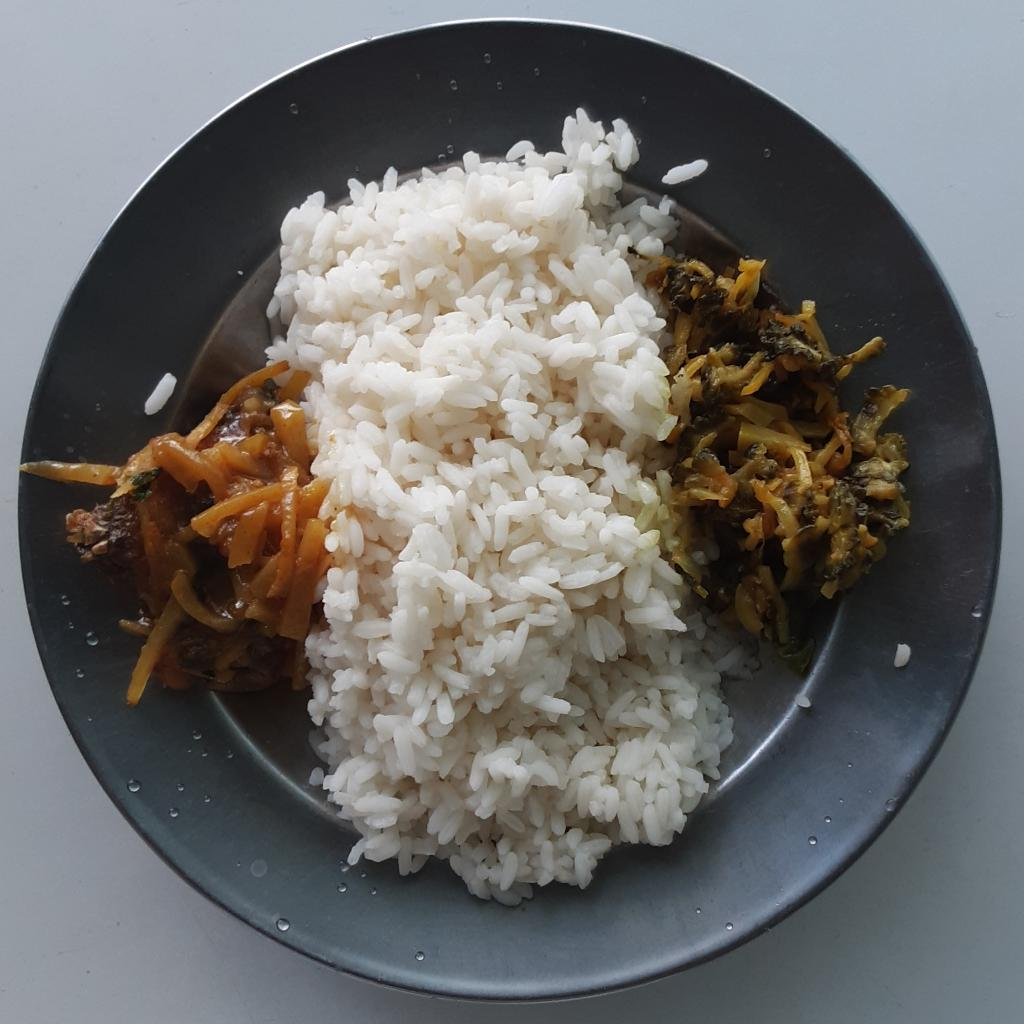korola-vaji: (648, 257, 910, 647)
potato: (25, 363, 337, 702)
rice: (264, 112, 764, 905)
